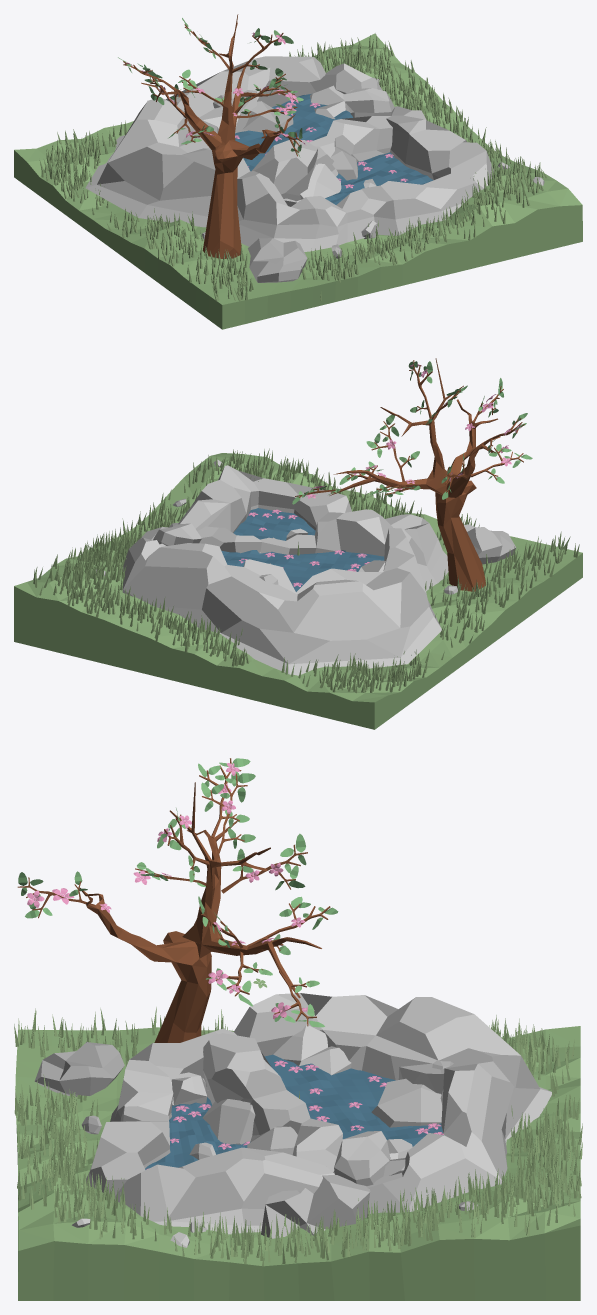
The model's file is pond.fbx.
3 renders of one model, top to bottom at view 1: azimuth 30°, elevation 25°; view 2: azimuth 150°, elevation 25°; view 3: azimuth 270°, elevation 25°, orthographic. The views are drawn at different scales.
Visible parts, largest first — view 1: Plane, Cube, Vert, Cube.001, Cube.003, Plane.002, Plane.001, Cube.002, Cube.013, Cube.014, Cube.009, Cube.012; view 2: Cube, Plane, Vert, Cube.001, Plane.002, Plane.001, Cube.003, Cube.002; view 3: Plane, Cube, Vert, Cube.001, Plane.002, Cube.007, Cube.003, Cube.014, Plane.001, Cube.002, Cube.008, Cube.013 (+3 smaller).
Boxes of the visible parts, x1,y1,x2,y2 form: Plane: (14, 33, 582, 329); Cube: (85, 56, 493, 251); Vert: (141, 14, 295, 258); Cube.001: (252, 116, 392, 202); Cube.003: (248, 238, 307, 282); Plane.002: (235, 94, 352, 171); Plane.001: (325, 152, 433, 204); Cube.002: (343, 88, 394, 117); Cube.013: (300, 163, 341, 199); Cube.014: (242, 101, 293, 132); Cube.009: (310, 85, 364, 119); Cube.012: (331, 146, 357, 180); Cube: (122, 465, 448, 675); Plane: (14, 453, 582, 729); Vert: (329, 358, 500, 591); Cube.001: (197, 509, 392, 556); Plane.002: (221, 550, 384, 591); Plane.001: (233, 508, 315, 540); Cube.003: (464, 524, 516, 564); Cube.002: (153, 523, 201, 545); Plane: (15, 1026, 580, 1300); Cube: (86, 993, 551, 1234); Vert: (79, 782, 321, 1042); Cube.001: (203, 1033, 342, 1172); Plane.002: (264, 1054, 443, 1146); Cube.007: (261, 1175, 370, 1238); Cube.003: (34, 1042, 124, 1096); Cube.014: (371, 1078, 442, 1127); Plane.001: (145, 1097, 250, 1169); Cube.002: (334, 1131, 390, 1186); Cube.008: (273, 1024, 351, 1075); Cube.013: (202, 1099, 255, 1144).
Size of what is drawn, in the model's own units: 849 by 535 by 809.
